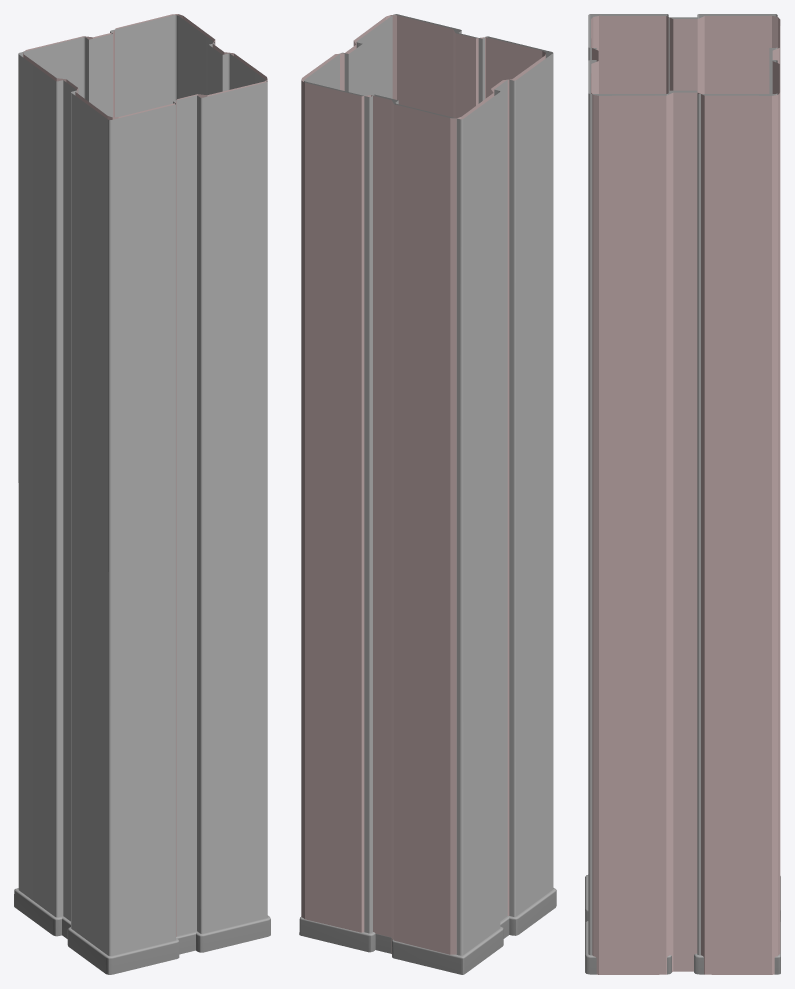
The model's file is SR_Pillar_01.fbx.
3 views of the same model, side by side, from view 1: azimuth 30°, elevation 25°; view 2: azimuth 150°, elevation 25°; view 3: azimuth 270°, elevation 25° (orthographic). The views are drawn at different scales.
Visible parts, largest first — view 1: SR_Pillar_01_LOD0, SR_Pillar_01_Col; view 2: SR_Pillar_01_Col, SR_Pillar_01_LOD0; view 3: SR_Pillar_01_Col, SR_Pillar_01_LOD0.
Part boxes in pixels (x1,y1,x2,y2): SR_Pillar_01_LOD0: [14, 15, 270, 974]; SR_Pillar_01_Col: [23, 14, 267, 936]; SR_Pillar_01_Col: [301, 15, 545, 954]; SR_Pillar_01_LOD0: [299, 14, 556, 974]; SR_Pillar_01_Col: [591, 15, 780, 974]; SR_Pillar_01_LOD0: [585, 14, 780, 974].
Size of the model in its own units: 120 by 589 by 119.
